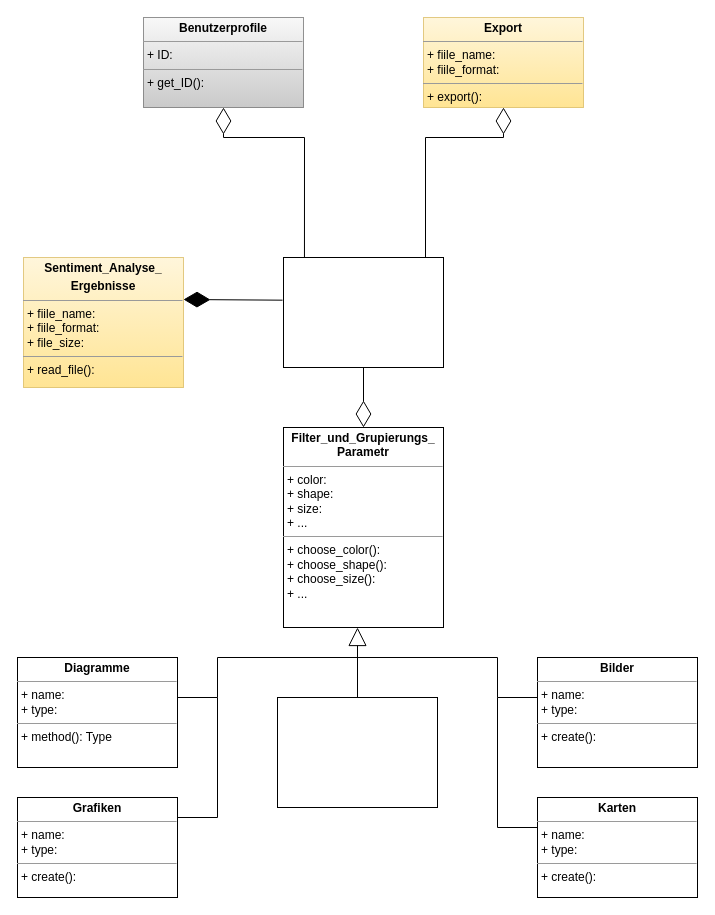
Image size: 715x915. Some labels were removed from this diagram. Each missing label, with the centre of its shape:
"Tabellen + name: + type: + create():" belongs at pixel 357 752.
"Visualisierungsdaten (Worksheet) + name: + add(): + remove():" belongs at pixel 363 312.
